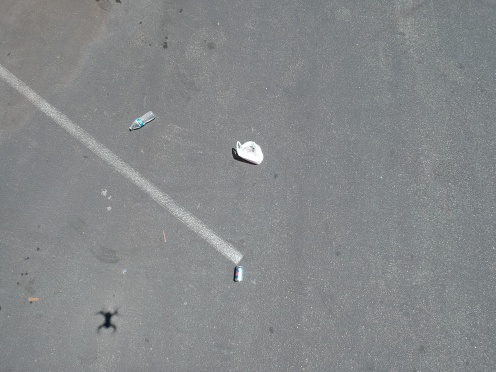bottle: (124, 108, 161, 132)
can: (225, 260, 248, 286)
plastic bag: (228, 136, 266, 168)
